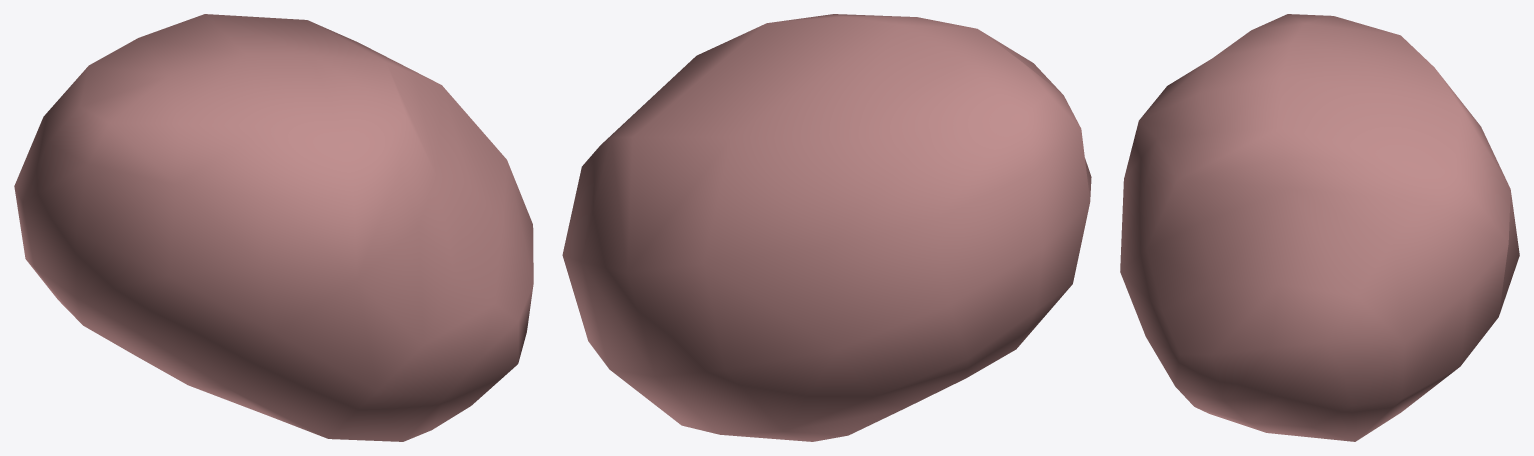
The model's file is SM_RocksRound_03.fbx.
3 views of the same model, side by side, from view 1: azimuth 30°, elevation 25°; view 2: azimuth 150°, elevation 25°; view 3: azimuth 270°, elevation 25° (orthographic). The views are drawn at different scales.
Parts seen in each view (by area): view 1: SM_RocksRound_03; view 2: SM_RocksRound_03; view 3: SM_RocksRound_03.
Boxes of the visible parts, bbox=[...] form: SM_RocksRound_03: bbox=[14, 14, 533, 441]; SM_RocksRound_03: bbox=[562, 14, 1091, 441]; SM_RocksRound_03: bbox=[1120, 14, 1519, 441].
Size of the model in its own units: 2.52 by 2.03 by 2.22.
